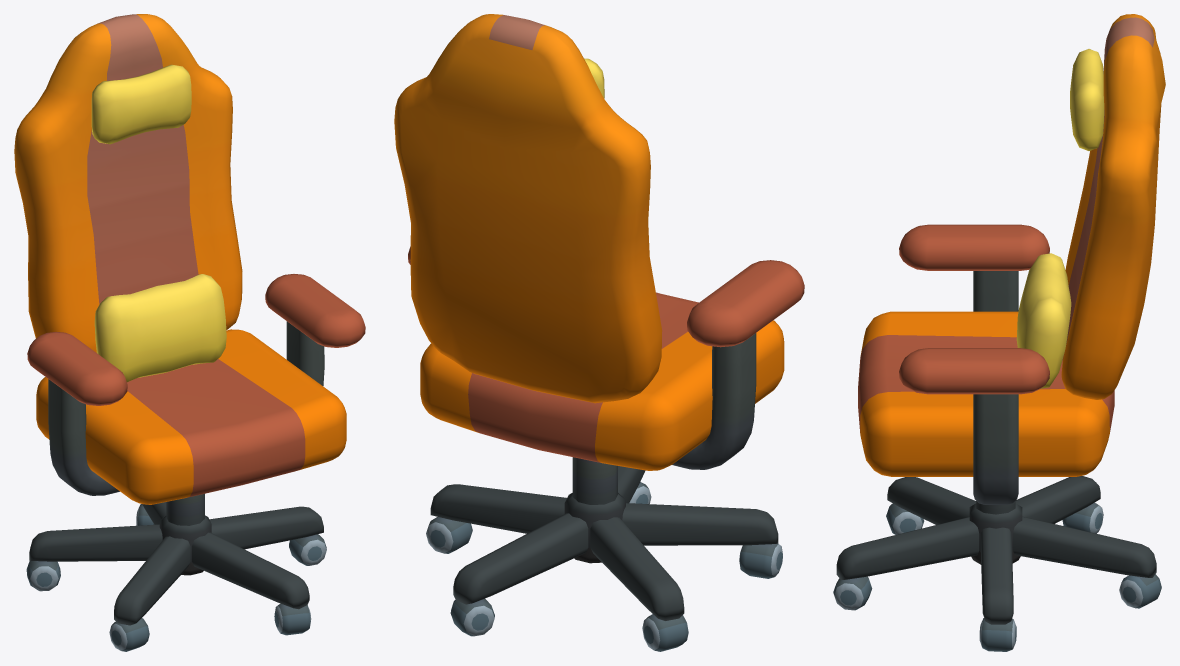
File: Chair_PC_02.glb
3 renders of one model, left to right at view 1: azimuth 30°, elevation 25°; view 2: azimuth 150°, elevation 25°; view 3: azimuth 270°, elevation 25°, orthographic. The views are drawn at different scales.
Visible parts, largest first — view 1: Chair_PC_02; view 2: Chair_PC_02; view 3: Chair_PC_02.
Boxes of the visible parts, box(x1,y1,x2,y2) form: Chair_PC_02: box(14, 14, 365, 651); Chair_PC_02: box(394, 14, 804, 651); Chair_PC_02: box(833, 14, 1165, 651).
Bounding box in the file's own units: 0.7865 × 1.38 × 0.7412.
1 material, 1 textured.
